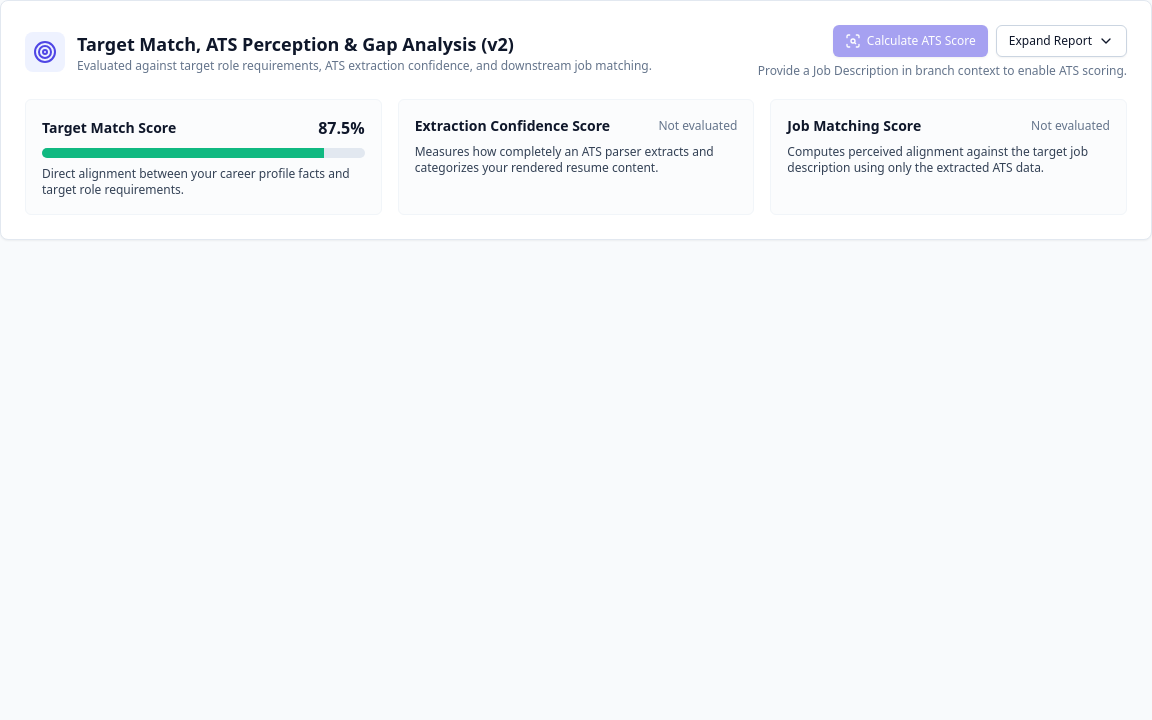
Test case: GapAnalysisCard › expands and reveals gap items and strategic recommendations
Click the button with aria-label "toggle gap analysis report": (1061, 41) [996,25,1127,57]
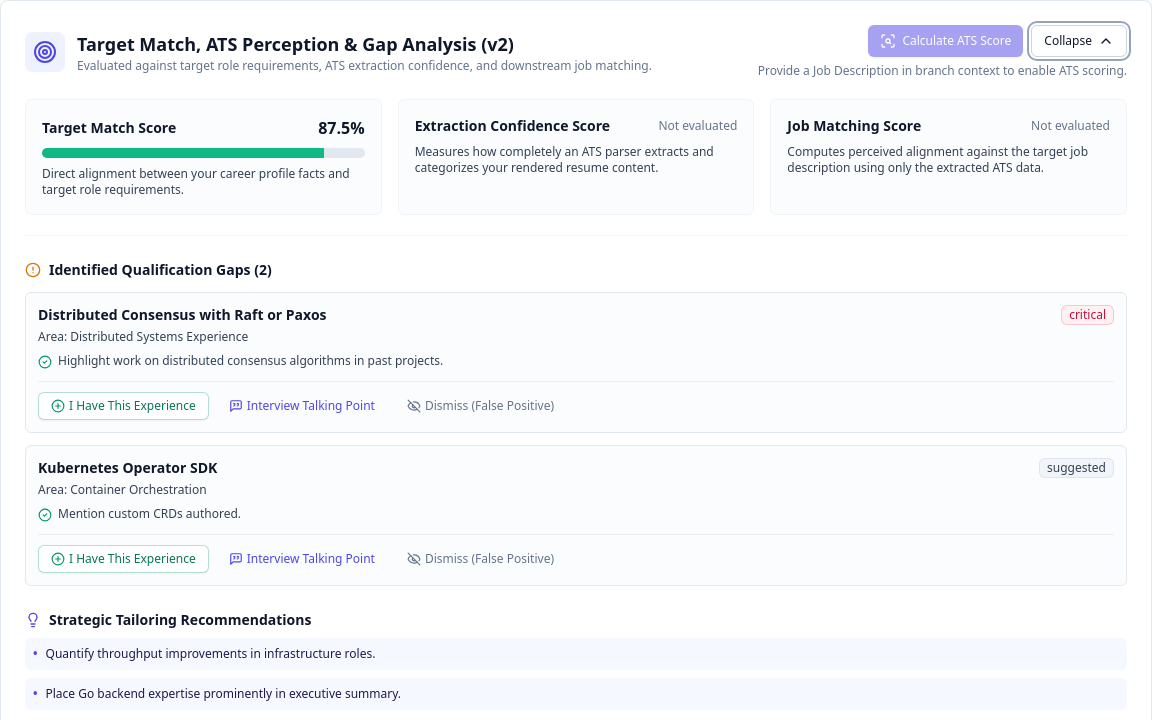
Expected: the button with aria-label "toggle gap analysis report" is expanded, [1031,25,1127,57]
Expected: the text "Distributed Consensus with Raft or Paxos" is shown, [38,305,326,325]
Expected: the text "critical" is shown, [1061,305,1114,325]
